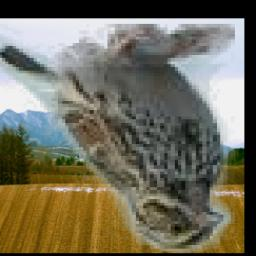Sparrow: (0, 24, 235, 253)
